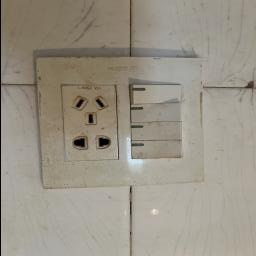outlet: (29, 49, 210, 189)
